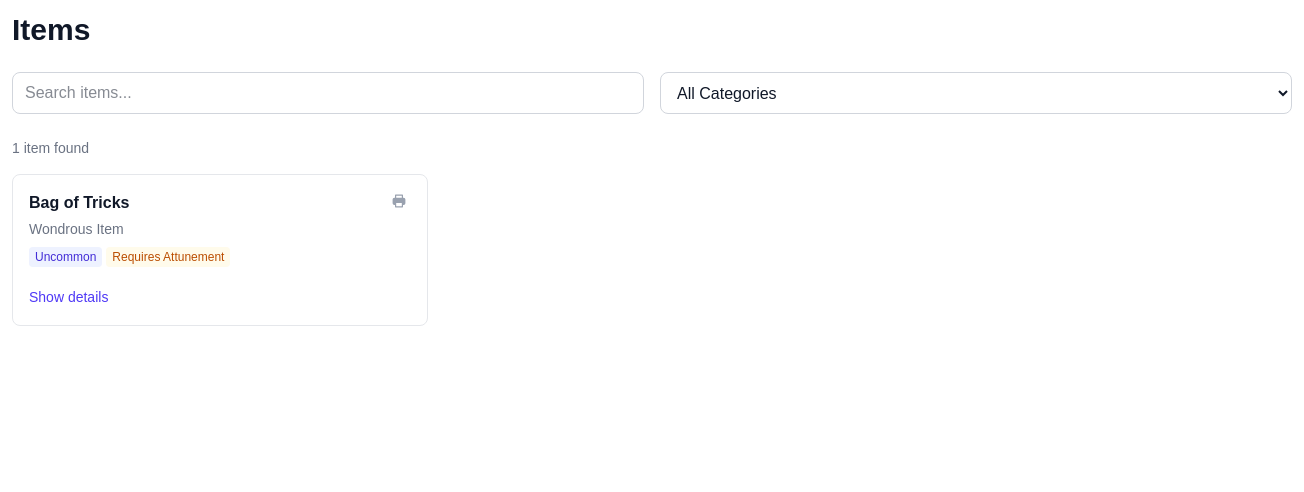
ItemListPage › item detail (collapsible description) › hides the description until Show details is clicked, then renders the reconstructed table
Expected: the text "This bag appears empty." is not shown
Click the button "Show details": point(69, 297) [29, 287, 108, 307]
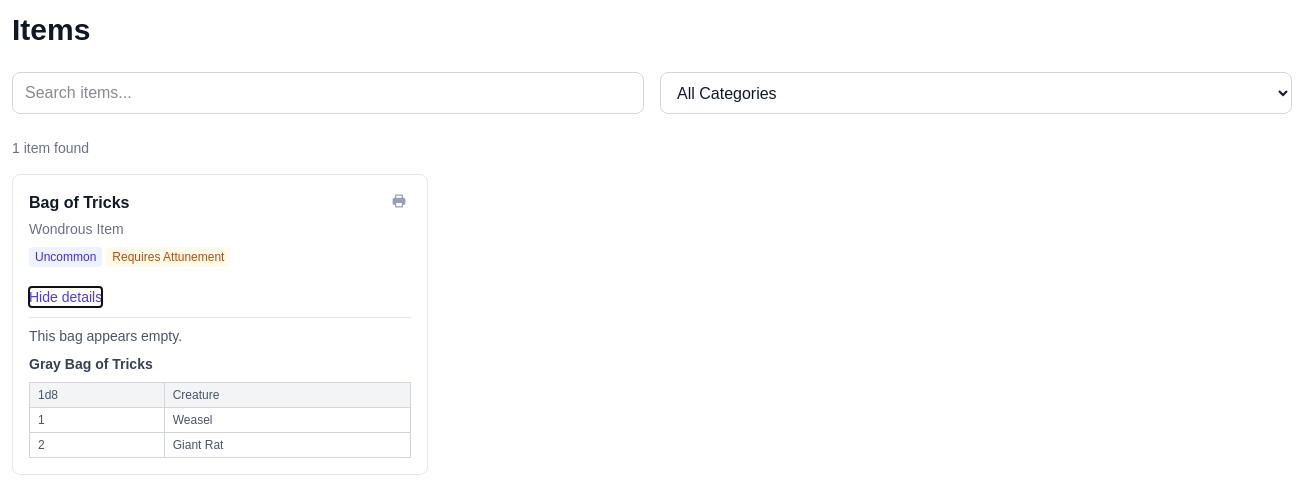
Expected: the text "This bag appears empty." is shown, [29, 328, 182, 344]
Expected: the table is shown, [29, 382, 411, 458]
Expected: the column heading "Creature" is shown, [164, 382, 410, 408]
